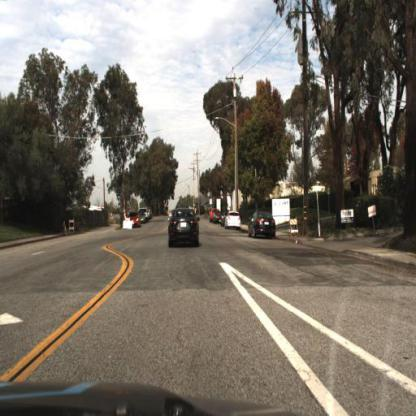car: (167, 205, 202, 247), (247, 210, 276, 241), (223, 209, 243, 232), (130, 210, 143, 231), (137, 207, 148, 227)
